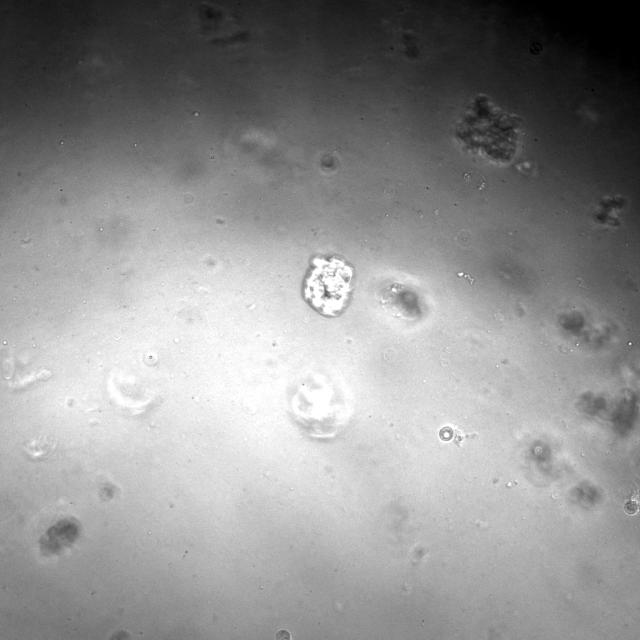organoid: (456, 94, 521, 163), (302, 256, 354, 316)
